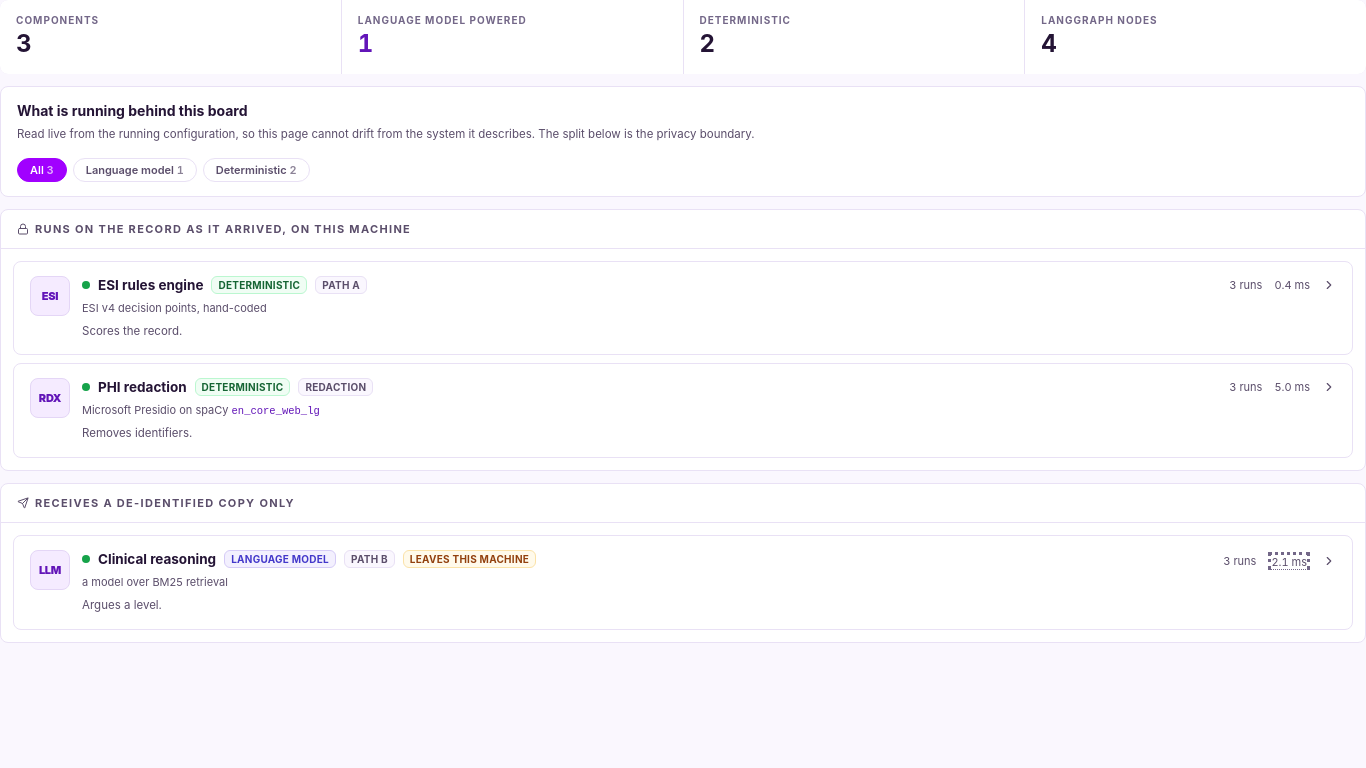
Test: the component registry › shows the cache caveat with the figure it qualifies
Click the button named "details for Clinical reasoning" at (50, 570), box [14,536,1352,629]
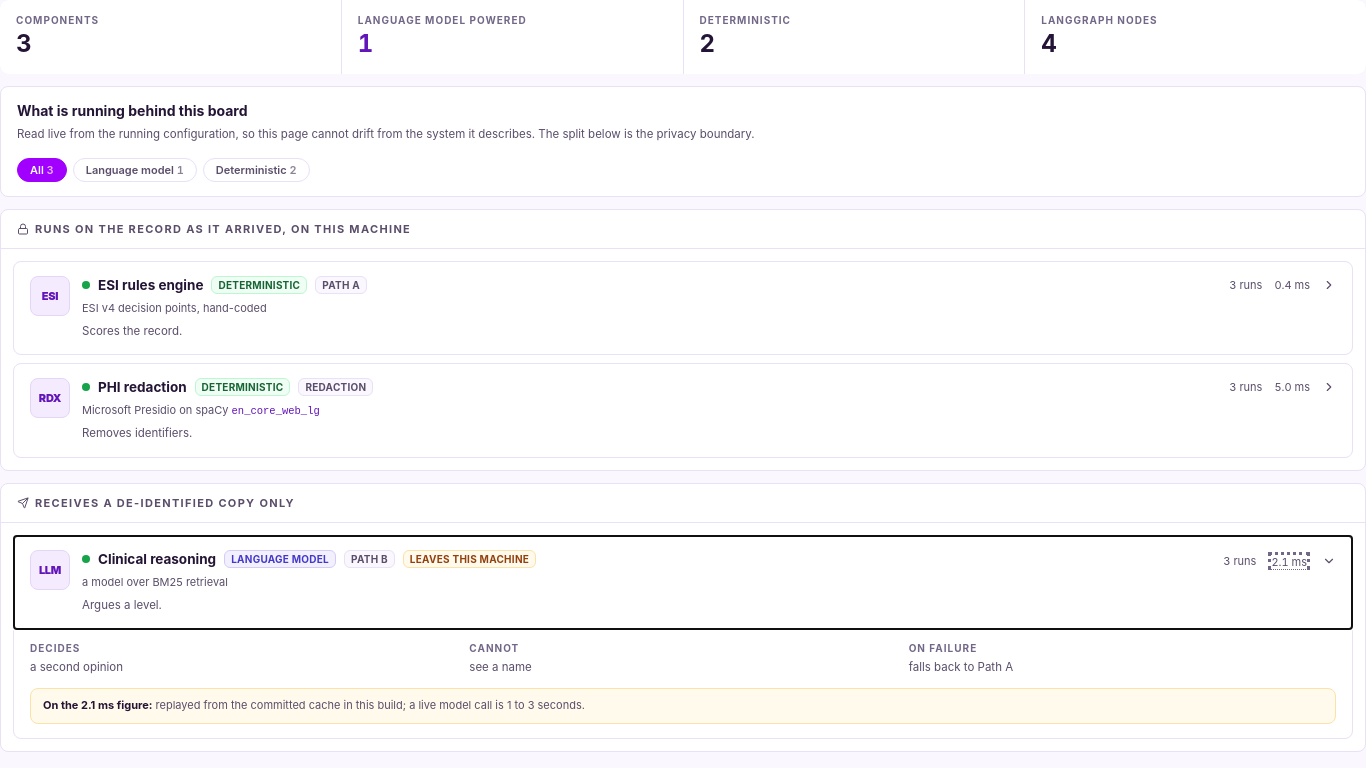
Check: the text "replayed from the committed cache in thi" is shown, box [156,698,582,712]
Check: the text "replayed from the committed cache in thi" shows "2.1 ms", box [81,698,114,712]
